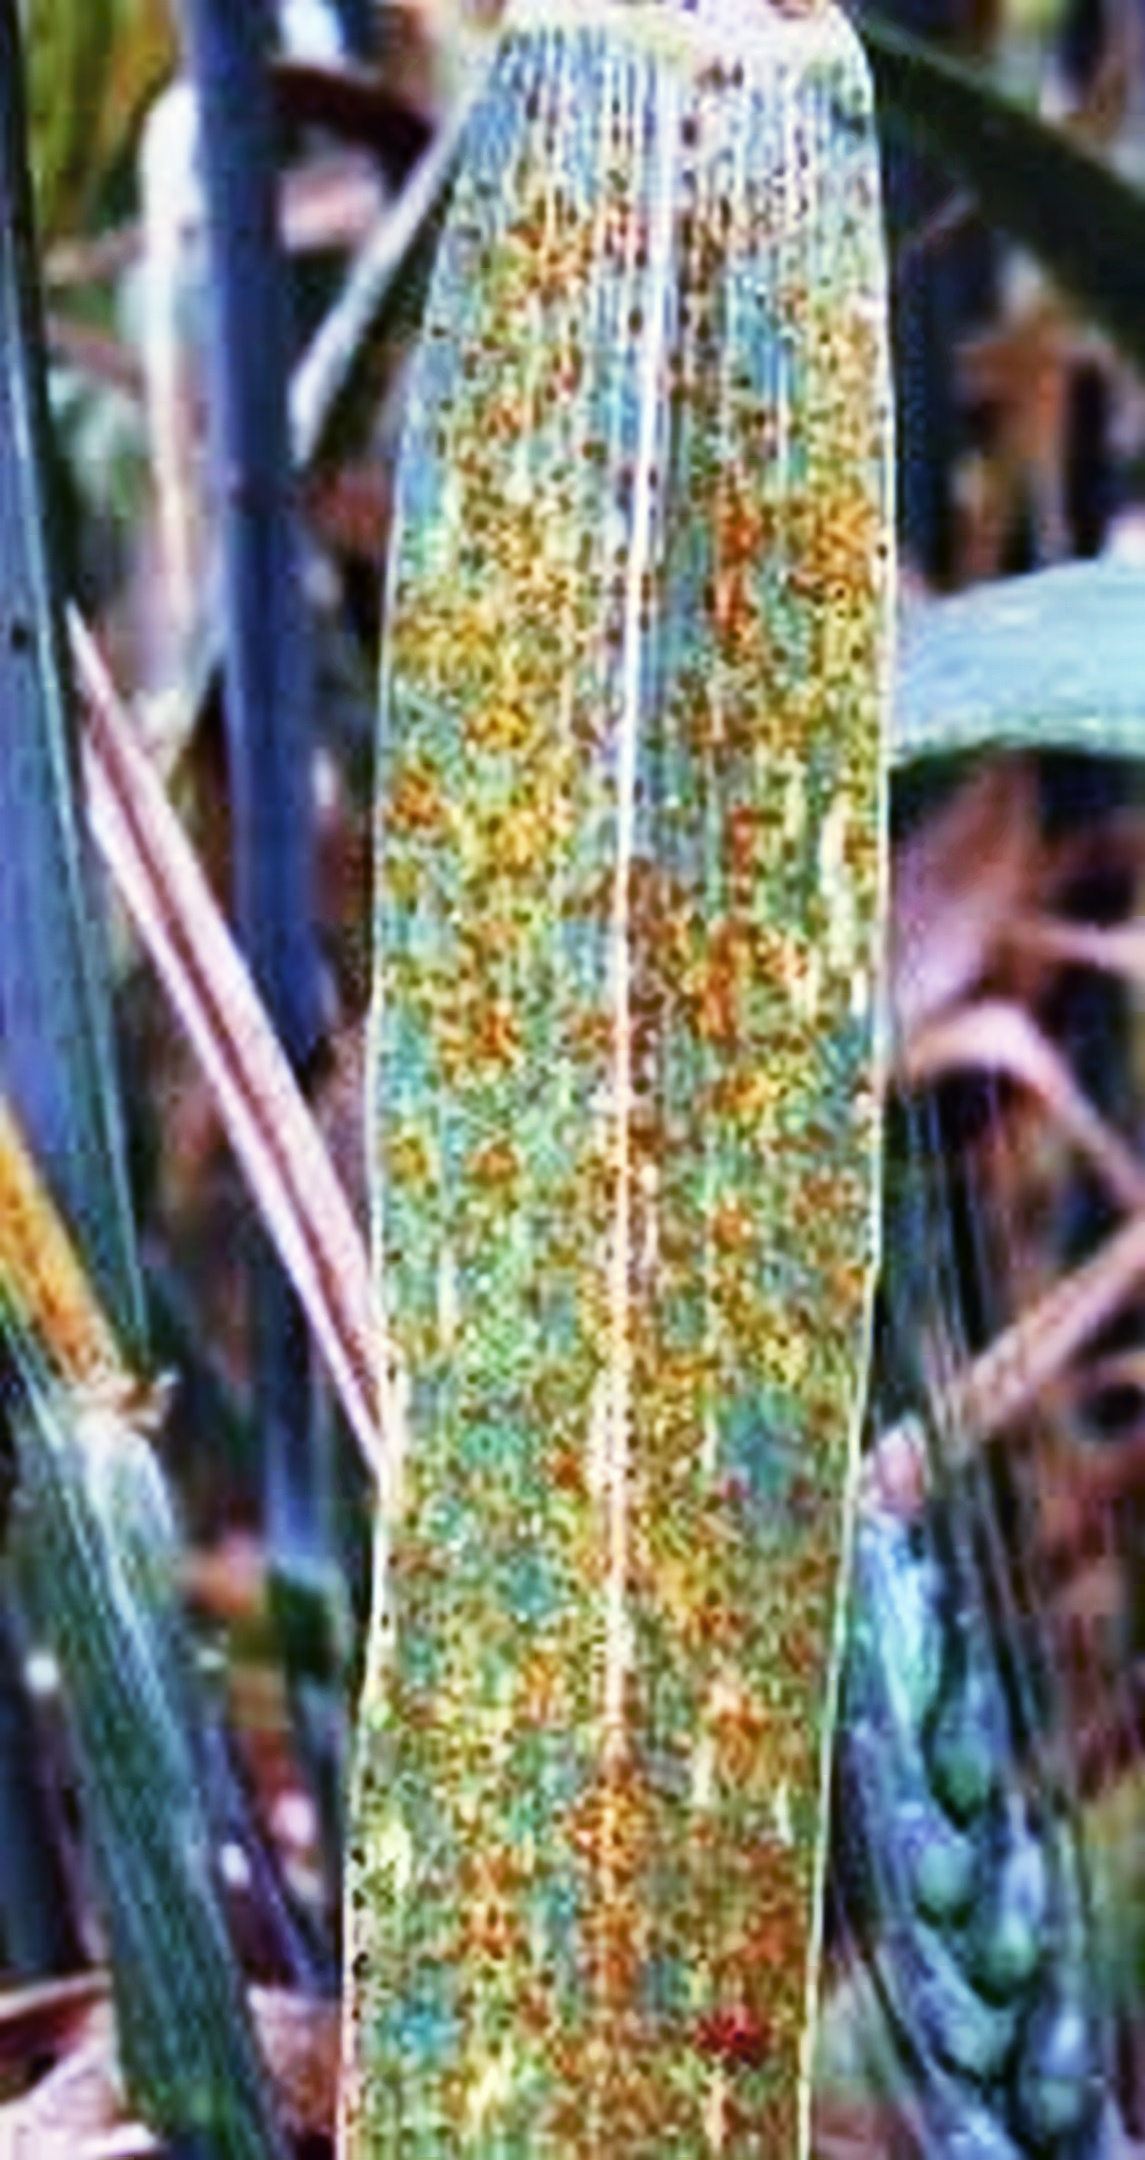Leaf Rust: (320, 347, 902, 2121)
